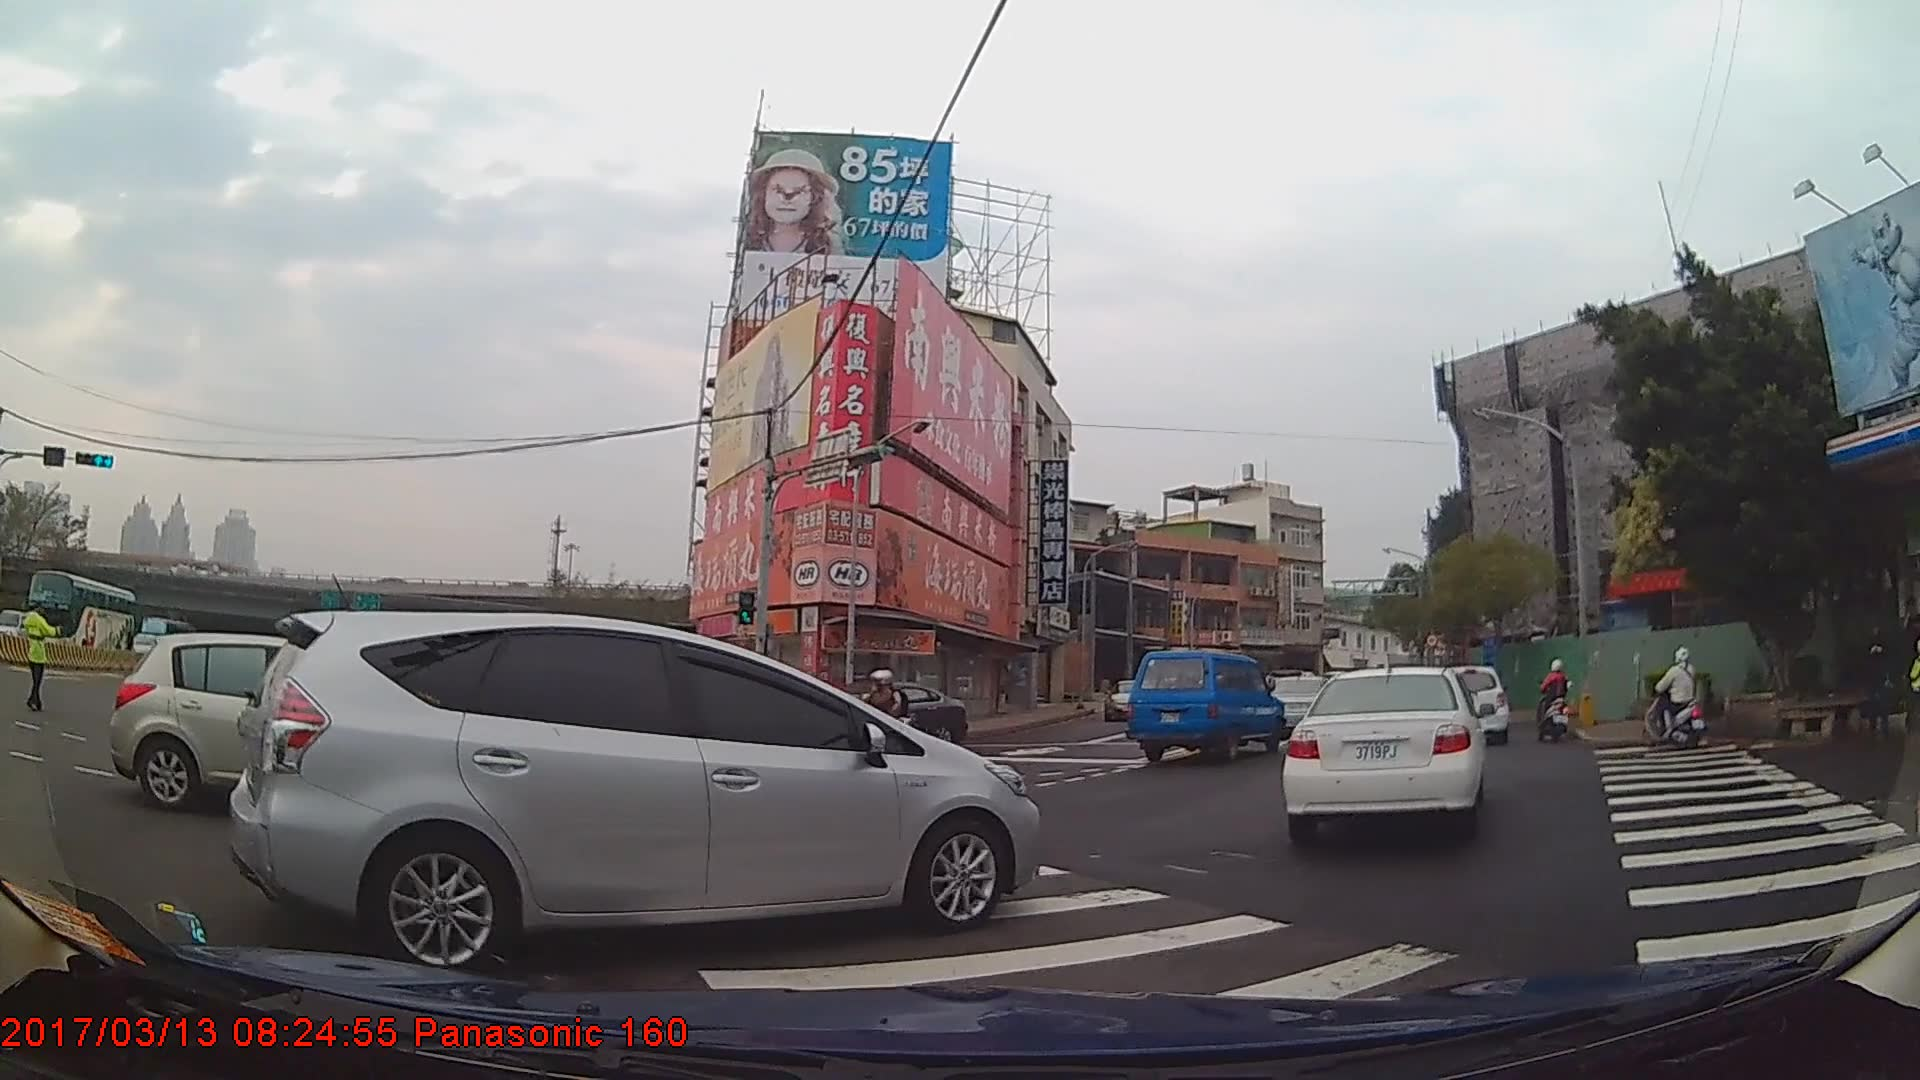pedestrian: (12, 596, 59, 712), (1857, 620, 1896, 738)
rider: (1644, 644, 1706, 750), (1535, 660, 1573, 739)
vehicle: (228, 610, 1040, 972), (108, 629, 437, 811), (1282, 666, 1486, 842), (1125, 649, 1283, 763), (24, 566, 138, 662), (826, 680, 967, 746), (1436, 664, 1510, 746), (0, 604, 31, 652)
